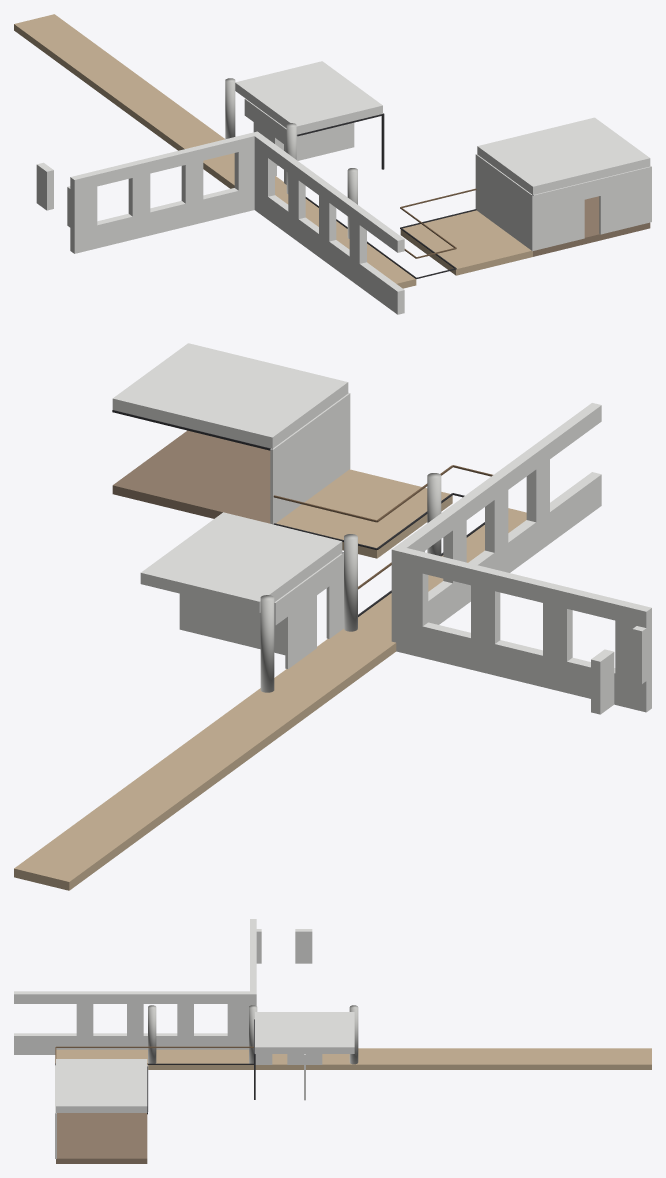
The model's file is SM_Bygg_Helgasetr_P3_V_MS.fbx.
3 renders of one model, top to bottom at view 1: azimuth 30°, elevation 25°; view 2: azimuth 150°, elevation 25°; view 3: azimuth 270°, elevation 25°, orthographic. The views are drawn at different scales.
Parts seen in each view (by area): view 1: SM_Bygg_Helgasetr_P3_V_MS; view 2: SM_Bygg_Helgasetr_P3_V_MS; view 3: SM_Bygg_Helgasetr_P3_V_MS.
Part boxes in pixels (left/top/right/bottom): SM_Bygg_Helgasetr_P3_V_MS: left=14, top=14, right=651, bottom=314; SM_Bygg_Helgasetr_P3_V_MS: left=14, top=343, right=651, bottom=890; SM_Bygg_Helgasetr_P3_V_MS: left=14, top=919, right=651, bottom=1163.
Size of the model in its own units: 38 by 26.01 by 4.
